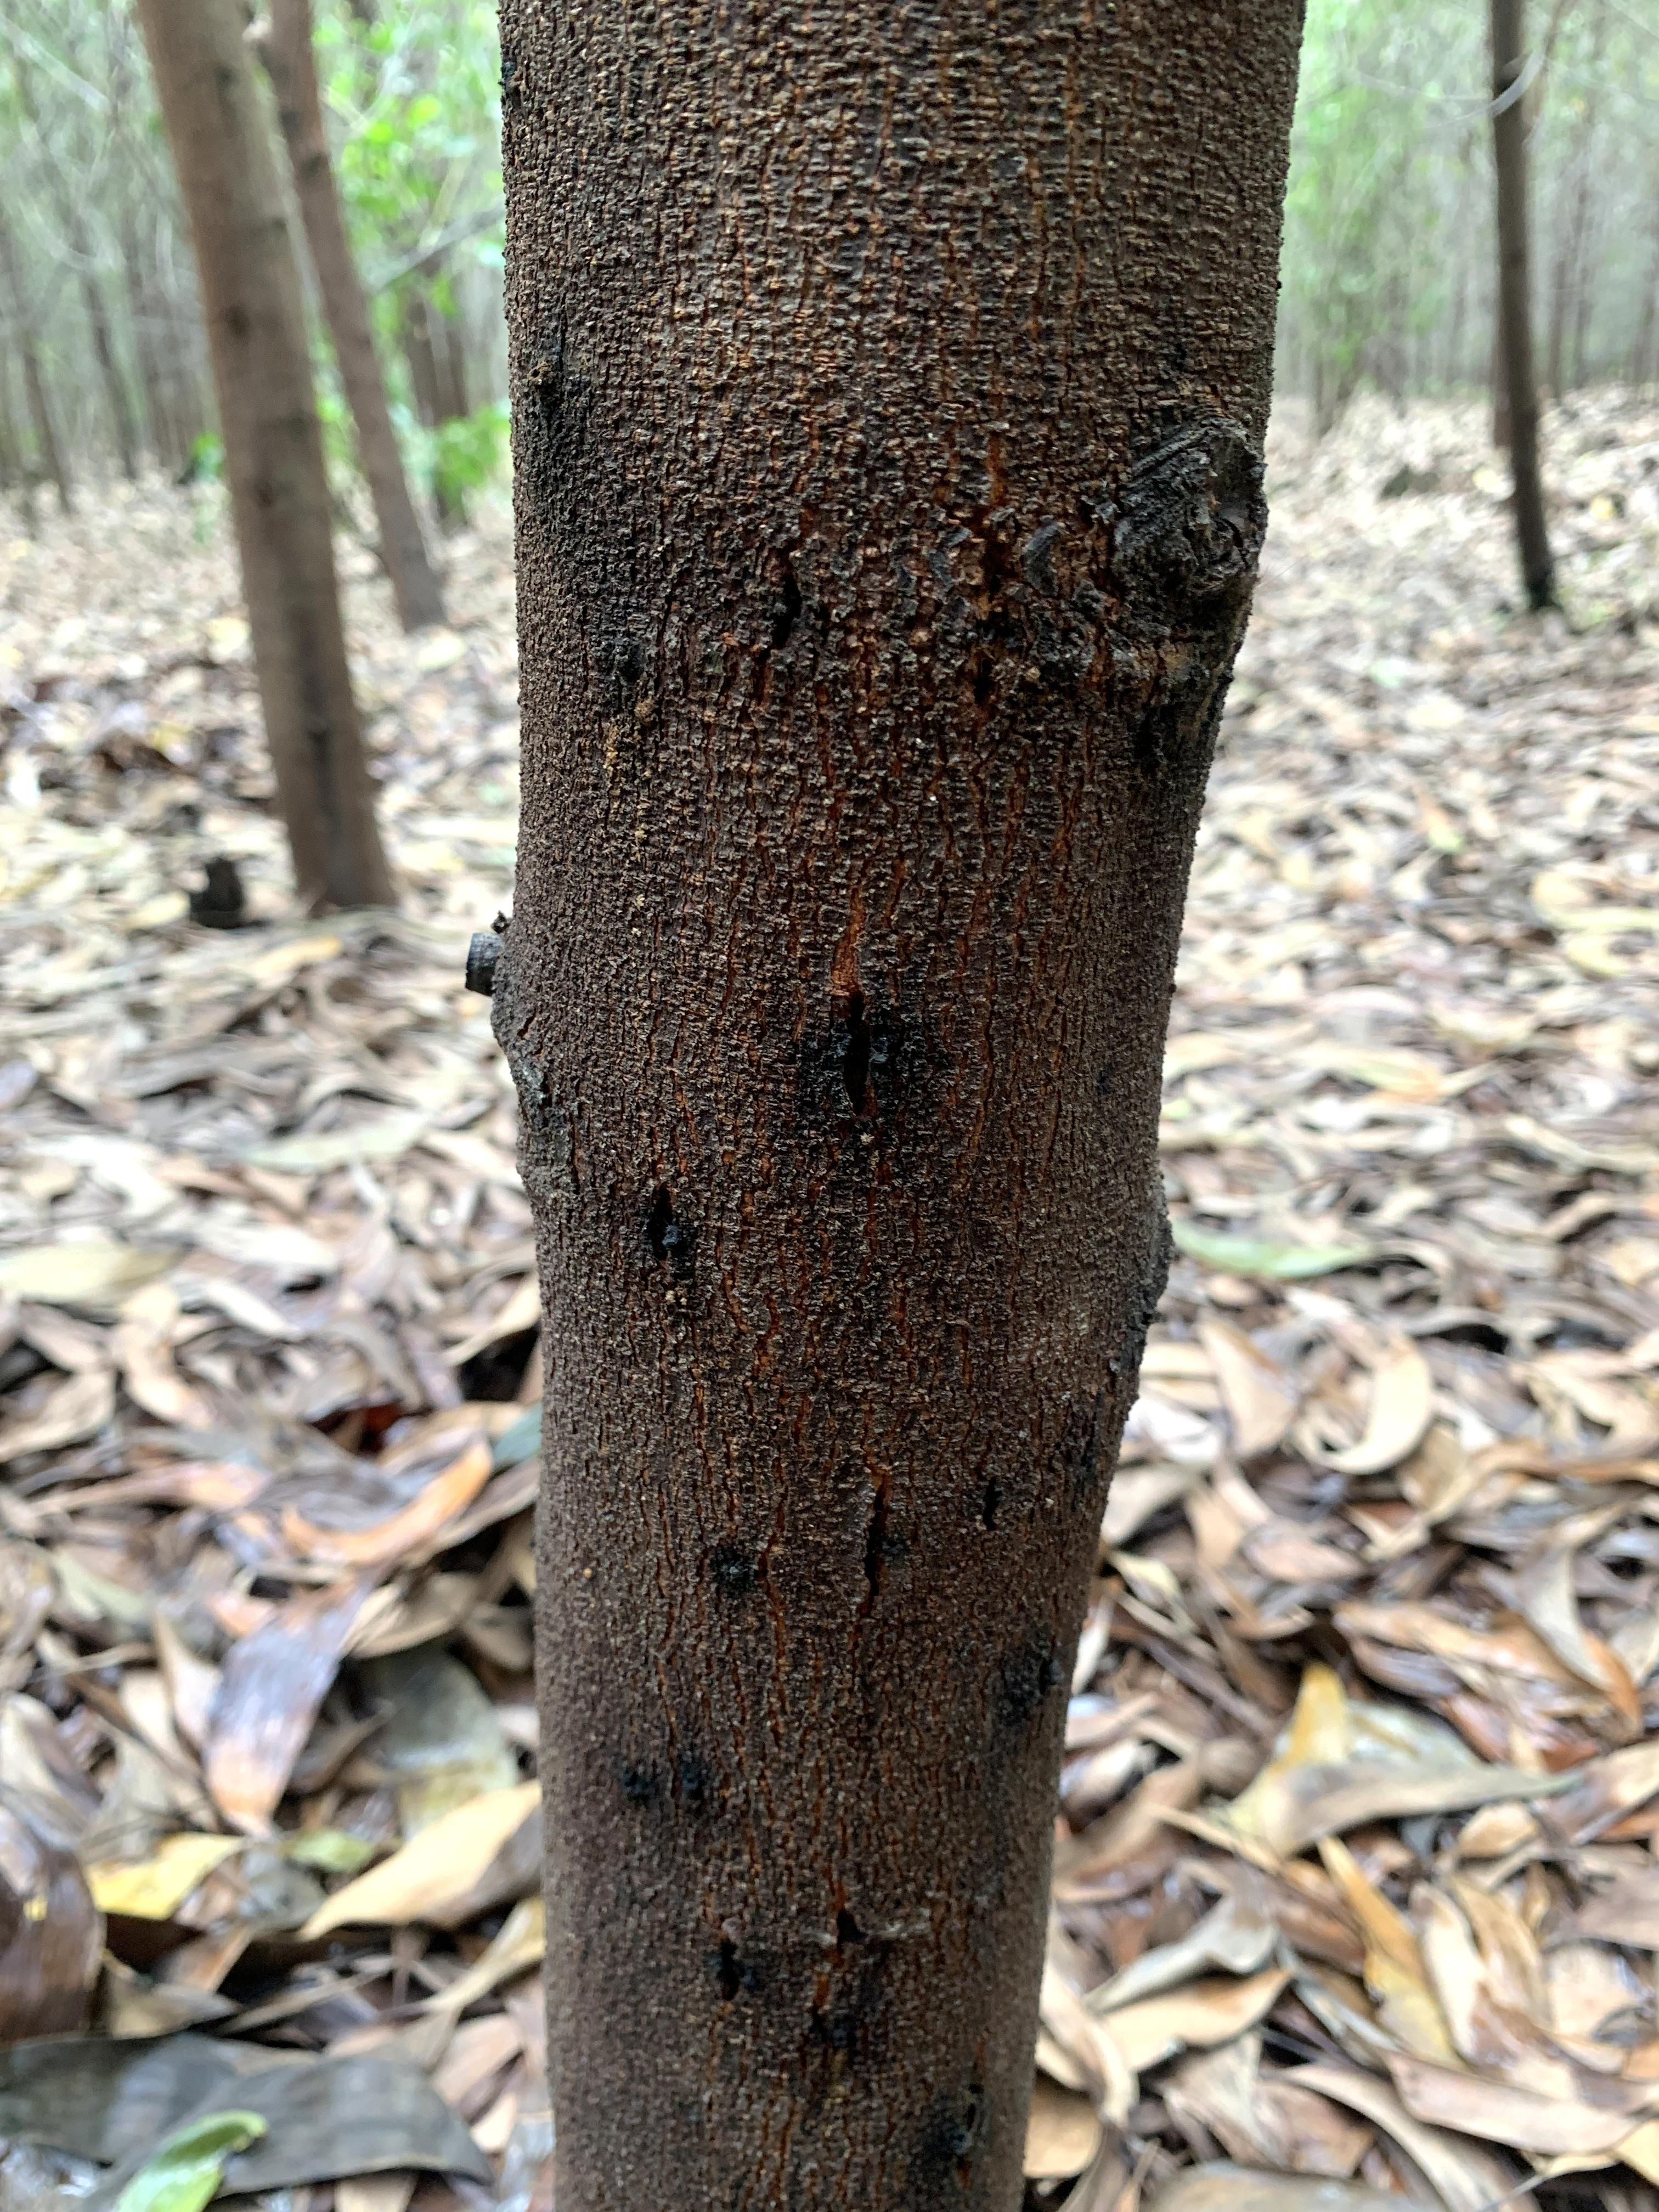Stem Borer: (786, 967, 934, 1132), (728, 533, 856, 702), (507, 294, 619, 444), (615, 1157, 708, 1303), (838, 1472, 901, 1656), (1002, 1627, 1086, 1737), (688, 1921, 769, 2027), (819, 1890, 884, 2015), (645, 1733, 720, 1832), (695, 1529, 756, 1623)
